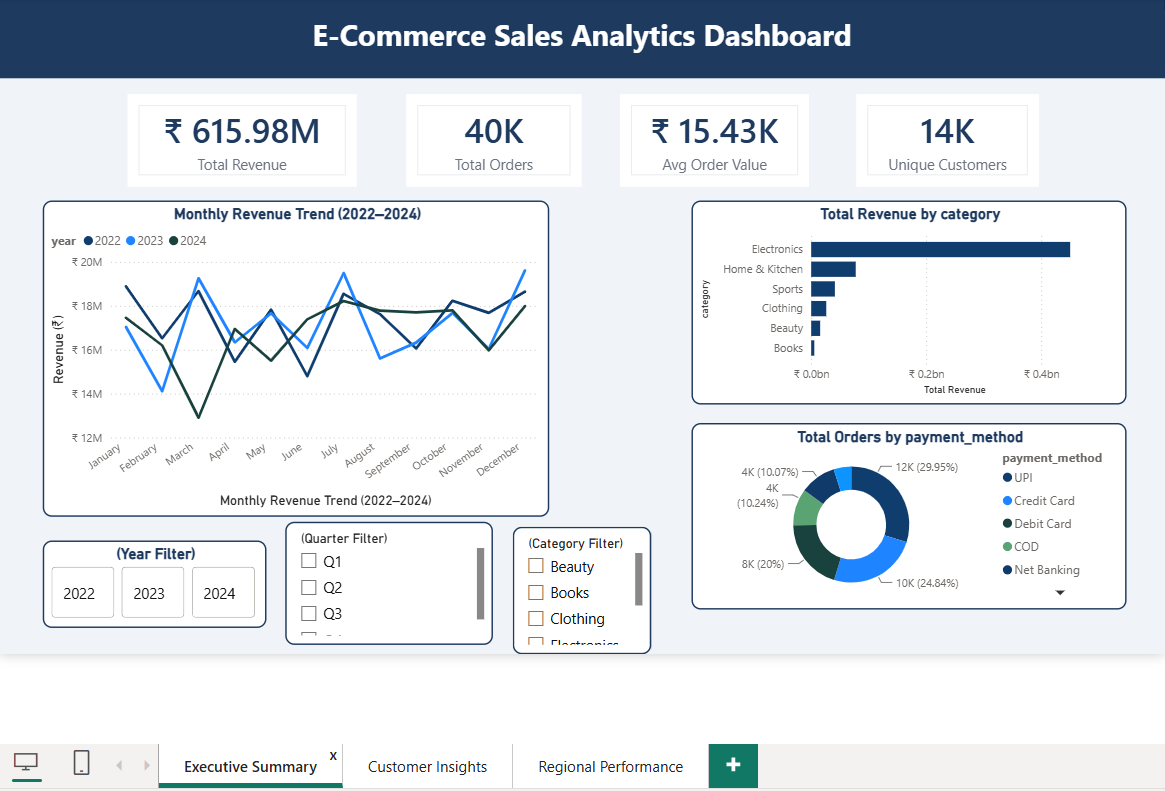

What the dashboard file says about the page in this screenshot:
{"tool":"powerbi","page":{"name":"Executive Summary","canvas":[1280,720],"ordinal":0},"visuals":[{"type":"shape","box":[0,0,1280.3,75.5],"z":0},{"type":"cardVisual","fields":{"Data":["_Measures.Total Revenue"]},"box":[141.3,105.7,251.1,101.5],"z":1000},{"type":"cardVisual","fields":{"Data":["_Measures.Total Orders"]},"box":[447.3,105.7,192.1,101.5],"z":2000},{"type":"cardVisual","fields":{"Data":["_Measures.Avg Order Value"]},"box":[682,105.7,207.2,101.5],"z":3000},{"type":"cardVisual","fields":{"Data":["_Measures.Unique Customers"]},"box":[941.3,105.7,200.3,101.5],"z":4000},{"type":"lineChart","title":"Monthly Revenue Trend (2022–2024)","fields":{"Y":["_Measures.Total Revenue"],"Category":["ecommerce_transactions.month_name"],"Series":["ecommerce_transactions.year"]},"box":[48,222.3,555.7,347.2],"z":5000},{"type":"clusteredBarChart","fields":{"Category":["ecommerce_transactions.category"],"Y":["_Measures.Total Revenue"]},"box":[760.2,222.3,477.5,223.7],"z":6000},{"type":"donutChart","fields":{"Category":["ecommerce_transactions.payment_method"],"Y":["_Measures.Total Orders"]},"box":[760.2,466.6,477.5,204.5],"z":7000},{"type":"textbox","box":[0,14,1280.3,74.1],"z":8000},{"type":"advancedSlicerVisual","title":"(Year Filter)","fields":{"Values":["ecommerce_transactions.year"]},"box":[48,595.5,245.6,96.1],"z":9000},{"type":"slicer","fields":{"Values":["ecommerce_transactions.quarter"]},"box":[314.9,575.5,228,135.1],"z":10000},{"type":"slicer","fields":{"Values":["ecommerce_transactions.category"]},"box":[563.4,580.3,152,139.9],"z":11000}]}

Visuals, with their boxes on the page's 1280x720 design canvas (x1, y1, x2, y2). These are canvas units, not pixel positions in the 1165x791 screenshot, which may show the page scaled, cropped or inside an application window:
shape: 0 0 1280 76
cardVisual - _Measures.Total Revenue: 141 106 392 207
cardVisual - _Measures.Total Orders: 447 106 639 207
cardVisual - _Measures.Avg Order Value: 682 106 889 207
cardVisual - _Measures.Unique Customers: 941 106 1142 207
"Monthly Revenue Trend (2022–2024)" lineChart: 48 222 604 570
clusteredBarChart - ecommerce_transactions.category x _Measures.Total Revenue: 760 222 1238 446
donutChart - ecommerce_transactions.payment_method x _Measures.Total Orders: 760 467 1238 671
textbox: 0 14 1280 88
"(Year Filter)" advancedSlicerVisual: 48 596 294 692
slicer - ecommerce_transactions.quarter: 315 576 543 711
slicer - ecommerce_transactions.category: 563 580 715 720
